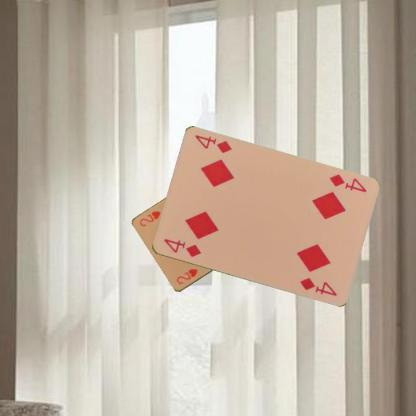2h: (174, 266, 199, 286)
4d: (326, 171, 368, 194), (161, 236, 202, 259)
